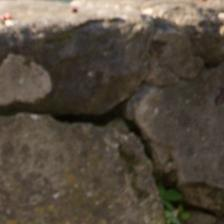Crack: (2, 52, 221, 172)
